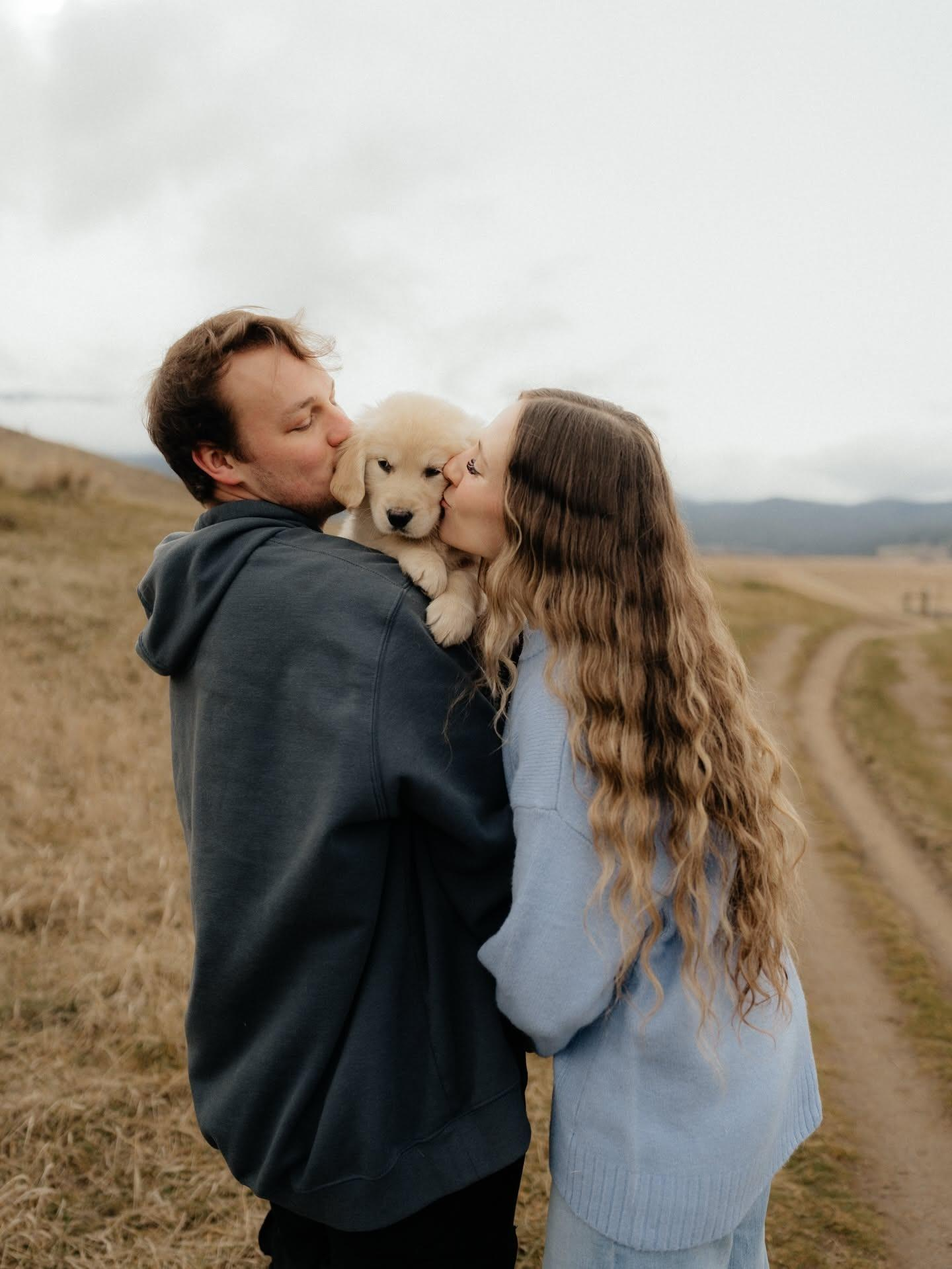non-dog: (129, 306, 536, 1269), (434, 387, 826, 1269)
puppy-dog: (325, 389, 490, 647)
